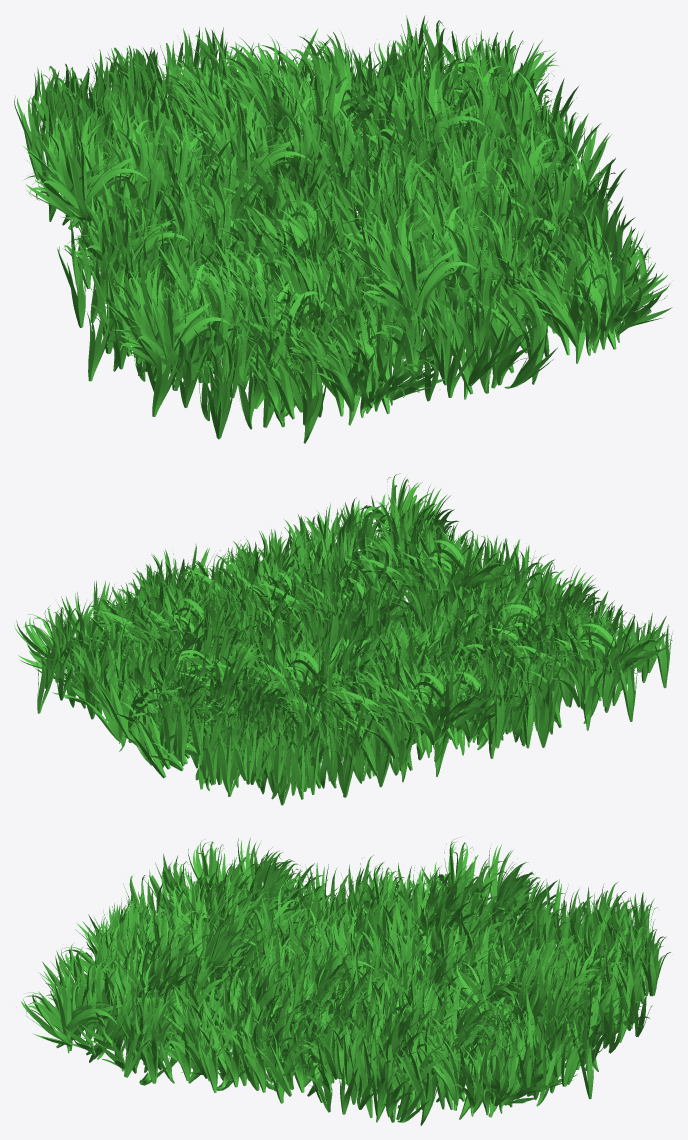
Rendered from sketch-transformed.glb.
3 views of the same model, one above another, from view 1: azimuth 30°, elevation 25°; view 2: azimuth 150°, elevation 25°; view 3: azimuth 270°, elevation 25° (orthographic). The views are drawn at different scales.
Parts seen in each view (by area): view 1: brush_Petal_g0_b3, brush_Petal_g0_b1, brush_Petal_g0_b0, brush_Petal_g0_b2; view 2: brush_Petal_g0_b3, brush_Petal_g0_b2, brush_Petal_g0_b1, brush_Petal_g0_b0; view 3: brush_Petal_g0_b3, brush_Petal_g0_b0, brush_Petal_g0_b2, brush_Petal_g0_b1.
Boxes of the visible parts, box(x1,y1,x2,y2) form: brush_Petal_g0_b3: box(14, 15, 635, 329); brush_Petal_g0_b1: box(54, 72, 529, 443); brush_Petal_g0_b0: box(98, 30, 672, 419); brush_Petal_g0_b2: box(30, 27, 580, 285); brush_Petal_g0_b3: box(34, 496, 516, 797); brush_Petal_g0_b2: box(69, 538, 481, 805); brush_Petal_g0_b1: box(73, 555, 672, 787); brush_Petal_g0_b0: box(14, 473, 626, 770); brush_Petal_g0_b3: box(91, 838, 646, 1110); brush_Petal_g0_b0: box(21, 875, 577, 1125); brush_Petal_g0_b2: box(172, 886, 670, 1071); brush_Petal_g0_b1: box(60, 837, 572, 1108).
Size of the model in its own units: 0.913 by 0.2439 by 1.01.
